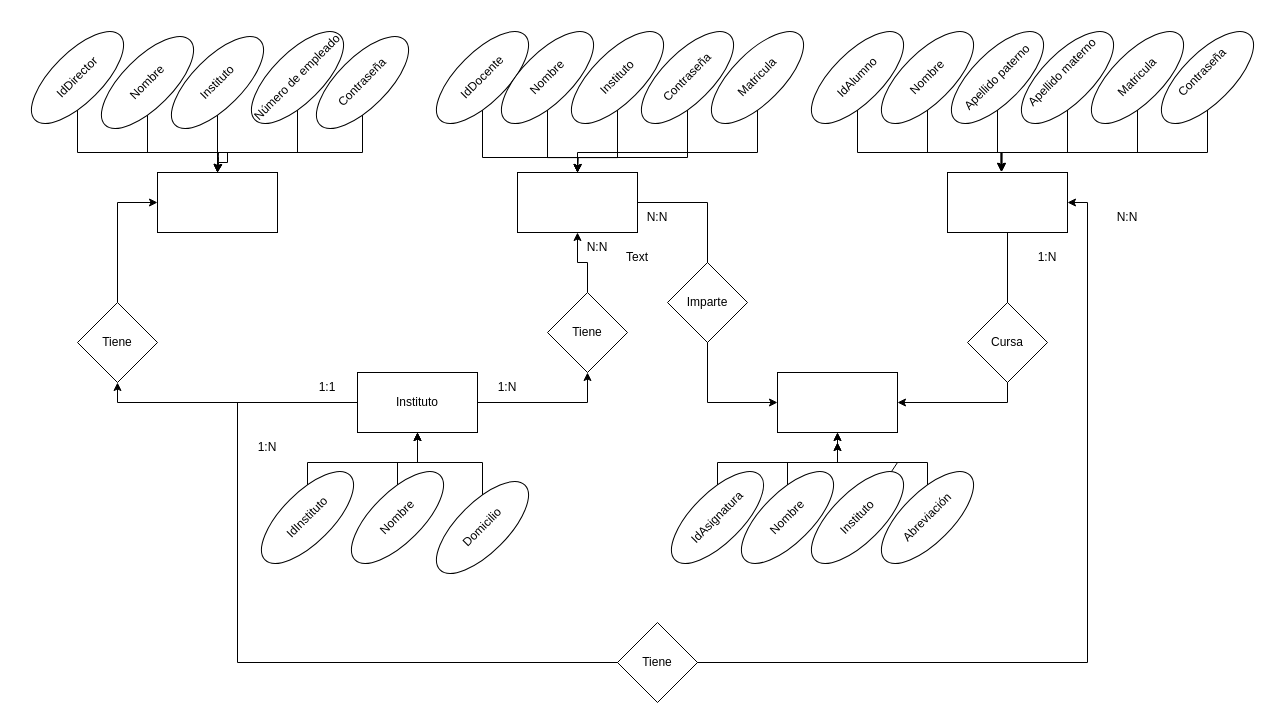
This 1286x721 diagram has some shape labels left out. Each missing label, with the box of its shape:
Alumno: (946, 172, 1068, 232)
Asignatura: (776, 372, 898, 432)
Director: (156, 172, 278, 232)
Docente: (516, 172, 638, 232)
